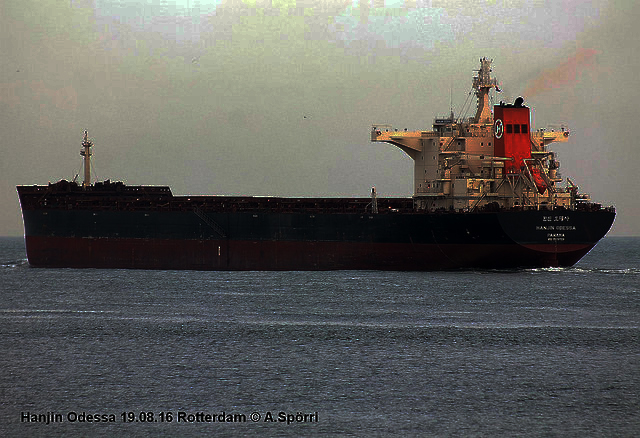bulk carrier: (18, 58, 621, 272)
